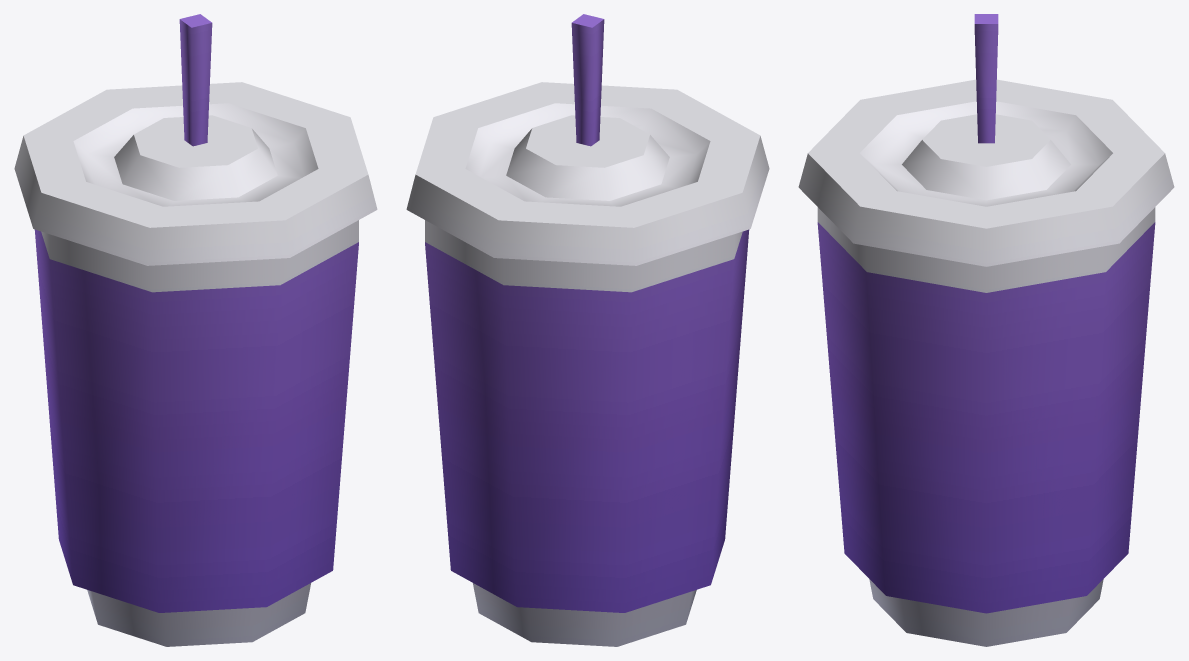
The model's file is soda.glb.
The picture shows the model from 3 angles, left to right: view 1: azimuth 30°, elevation 25°; view 2: azimuth 150°, elevation 25°; view 3: azimuth 270°, elevation 25°; orthographic projection.
Visible parts, largest first — view 1: soda; view 2: soda; view 3: soda.
Part boxes in pixels (box(x1,y1,x2,y2)): soda: box(14, 14, 377, 646); soda: box(406, 14, 769, 646); soda: box(798, 14, 1174, 646).
Bounding box in the file's own units: 0.2541 × 0.4324 × 0.2541.
1 material, 1 textured.
